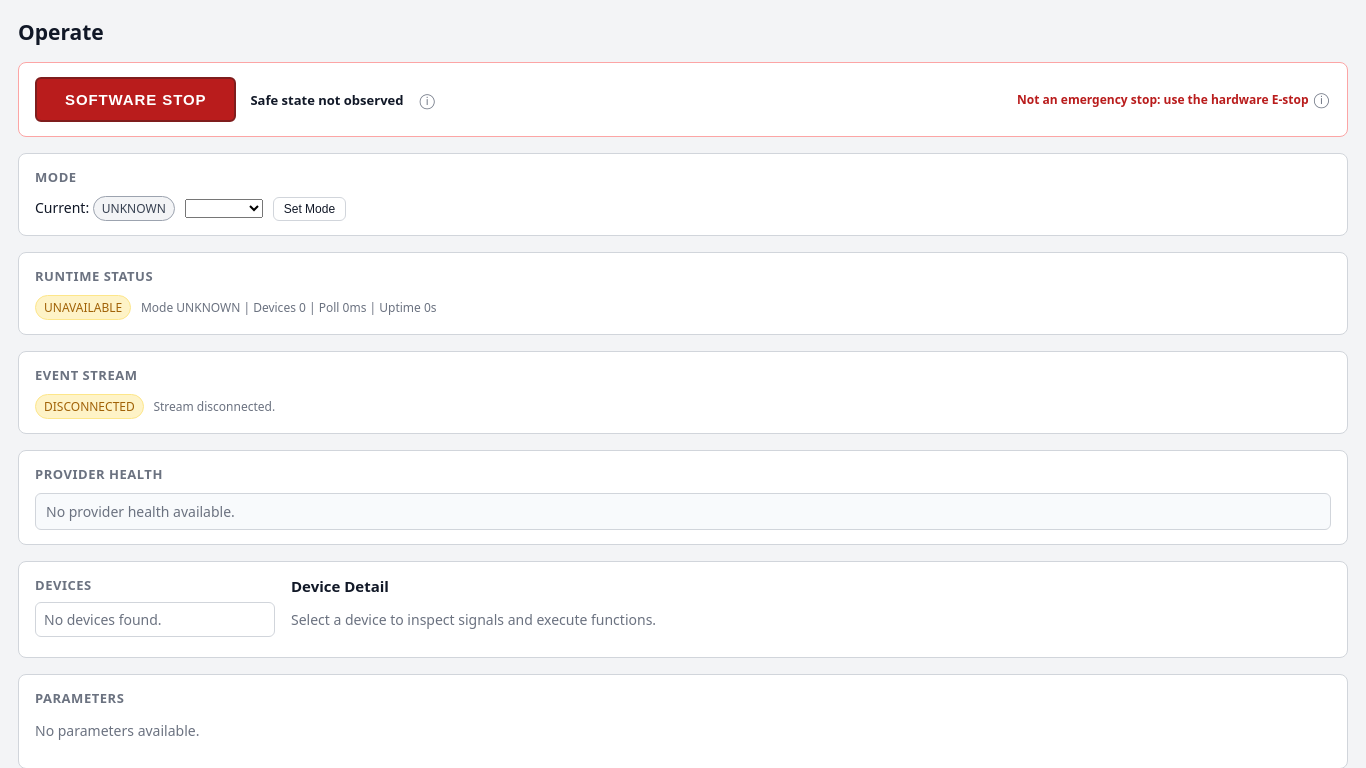
it: Operate.svelte — the safe-state file is the project's own (#564) › names the file an imported project's runtime_profiles maps the variant to
The width and height of the screenshot is (1366, 768).
Note: The file is named behind the stop row's click-open detail (#613).
Click the button named "About the software stop" at coordinates (427, 100), box x1=418 y1=92 x2=437 y2=107
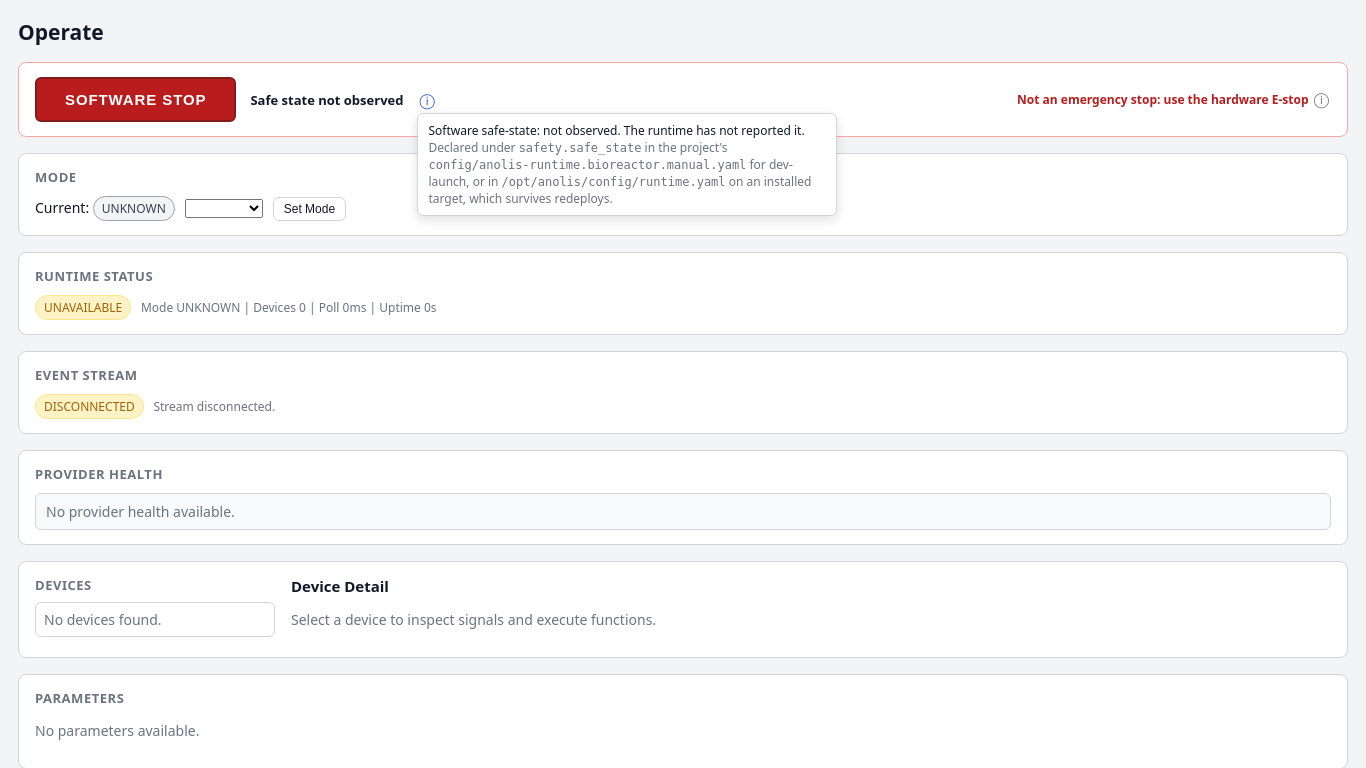
Result: the element with test id "safe-state-fix" shows "config/anolis-runtime.bioreactor.manual.yaml" at x1=428 y1=158 x2=746 y2=172
